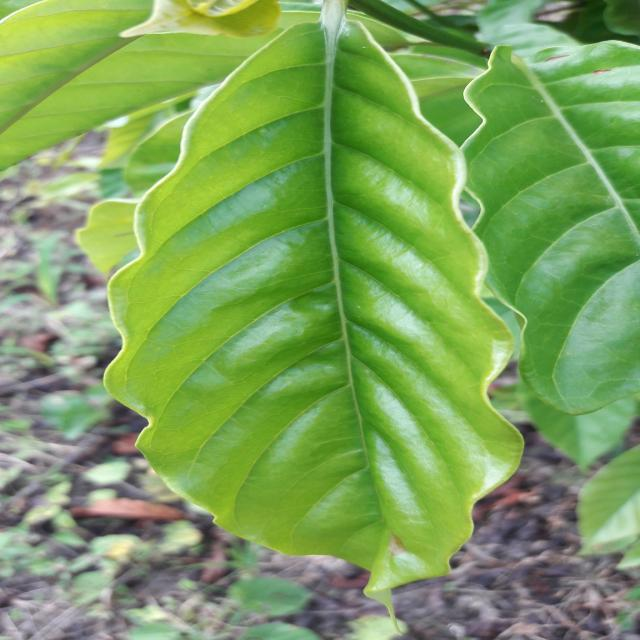Sanas: (103, 0, 525, 599)
